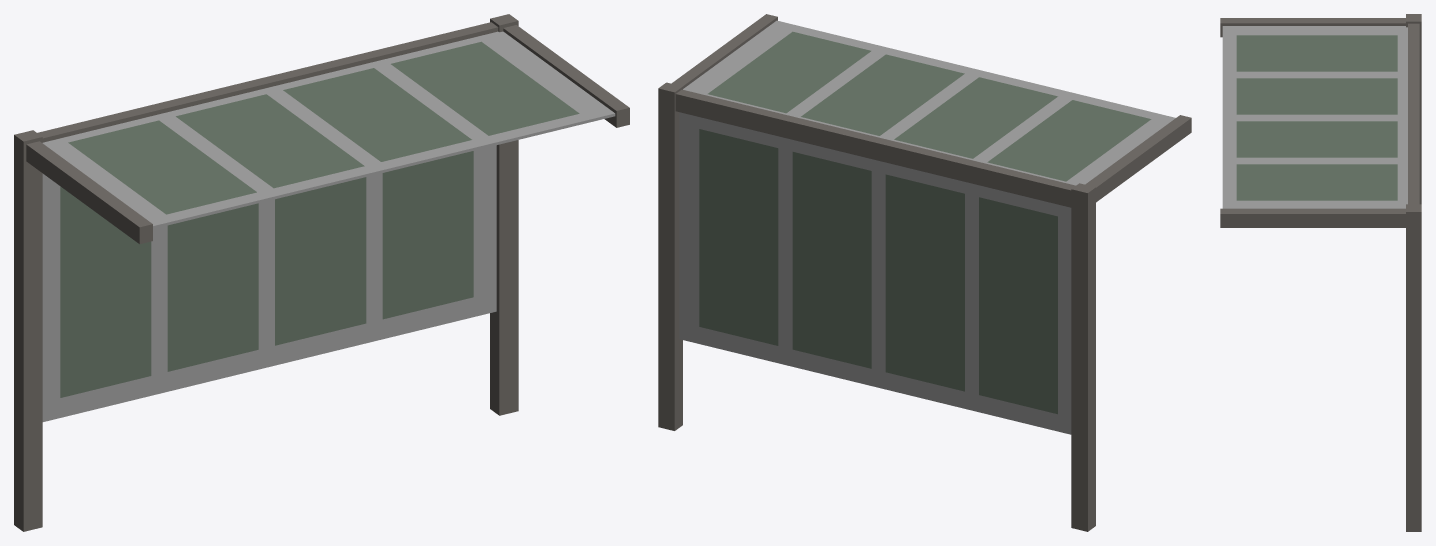
File: bus stand.FBX
3 renders of one model, left to right at view 1: azimuth 30°, elevation 25°; view 2: azimuth 150°, elevation 25°; view 3: azimuth 270°, elevation 25°, orthographic. The views are drawn at different scales.
Visible parts, largest first — view 1: bus stand; view 2: bus stand; view 3: bus stand.
Boxes of the visible parts, x1,y1,x2,y2 form: bus stand: (14, 14, 629, 531); bus stand: (658, 14, 1191, 531); bus stand: (1220, 14, 1421, 531).
Bounding box in the file's own units: 7.49 × 5.65 × 3.21.
